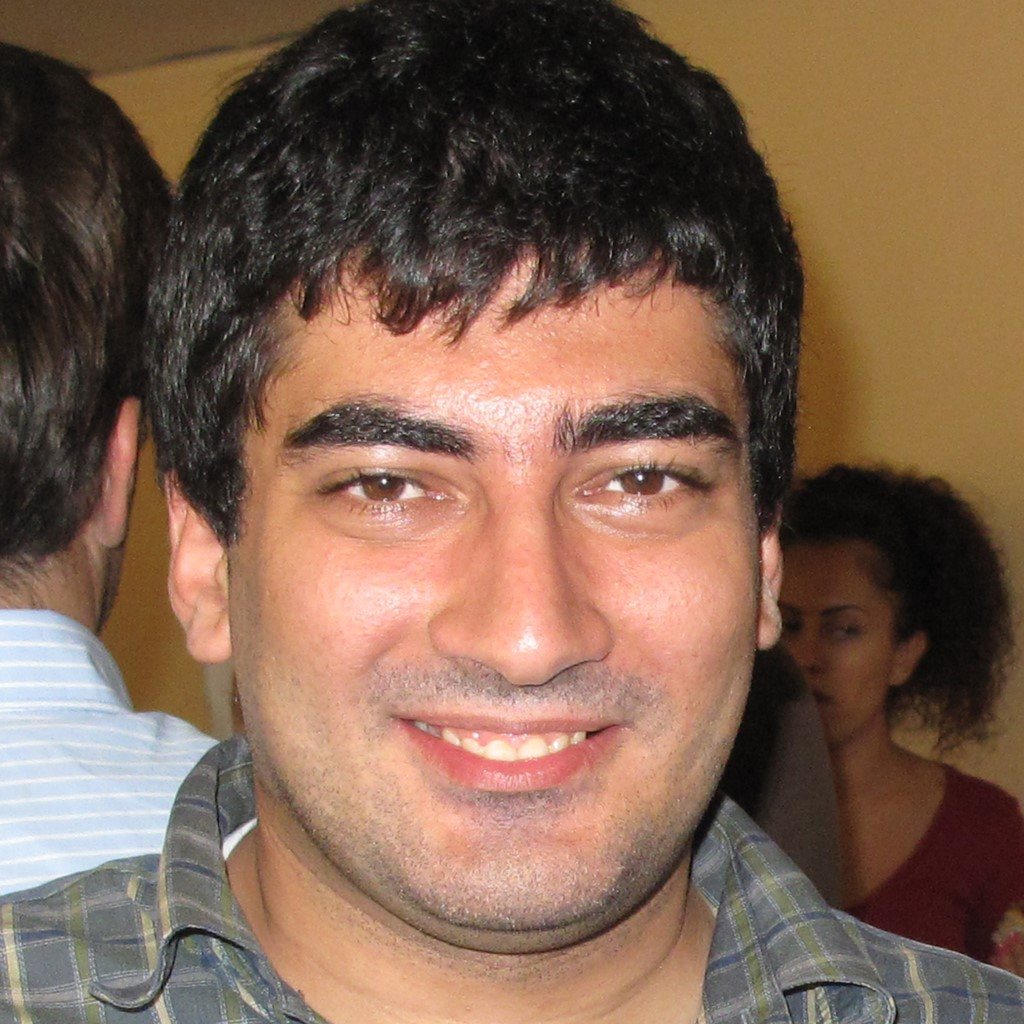sin_mascara: (228, 201, 750, 956)
